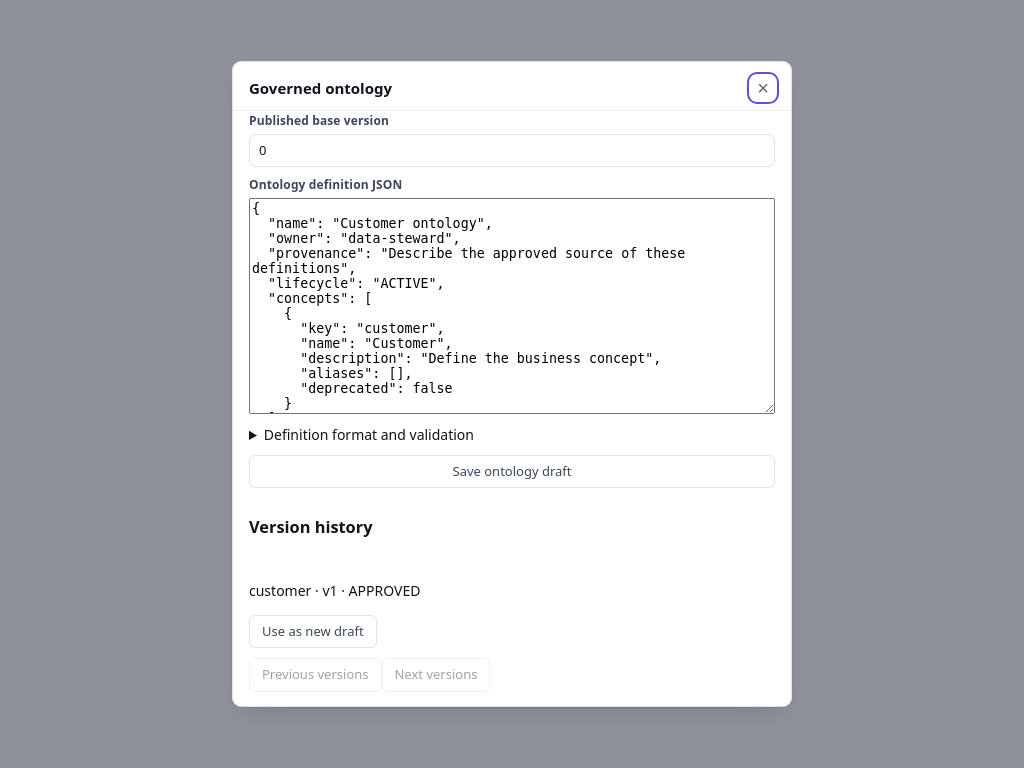
preserves the selected historical baseline instead of silently claiming the latest version
(page scrolled)
Click the button "Use as new draft". click: (313, 631)
box: 249,615 -> 377,648
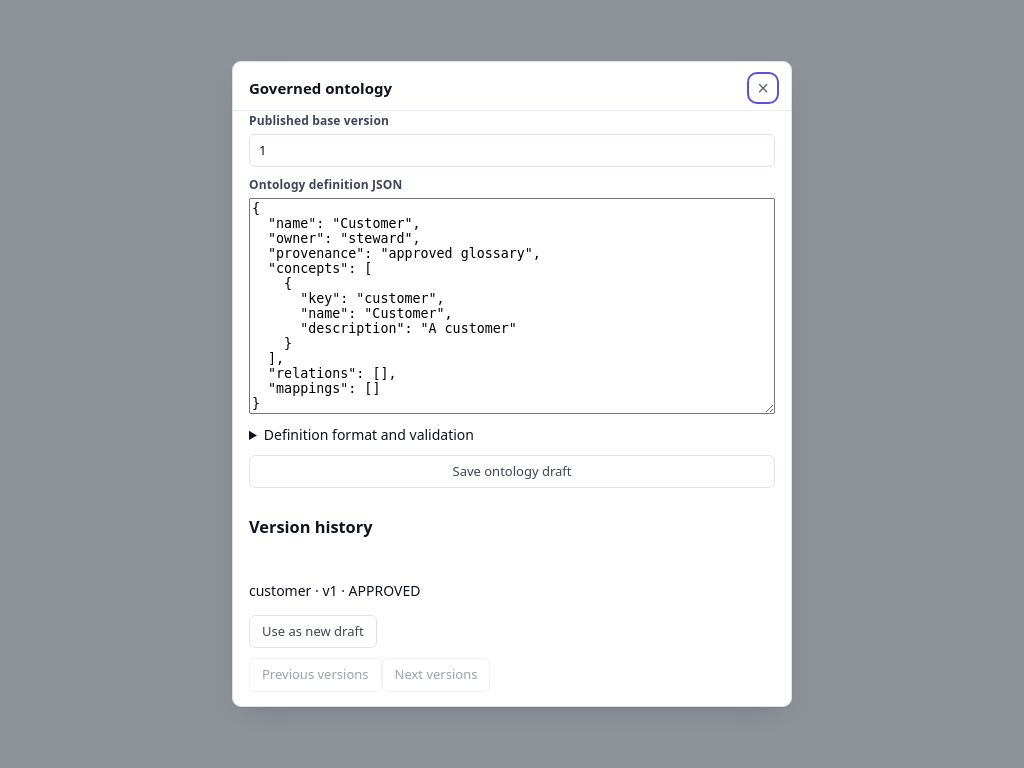
Result: the number field labelled "Published base version" holds "1" at 249,134 -> 775,167
